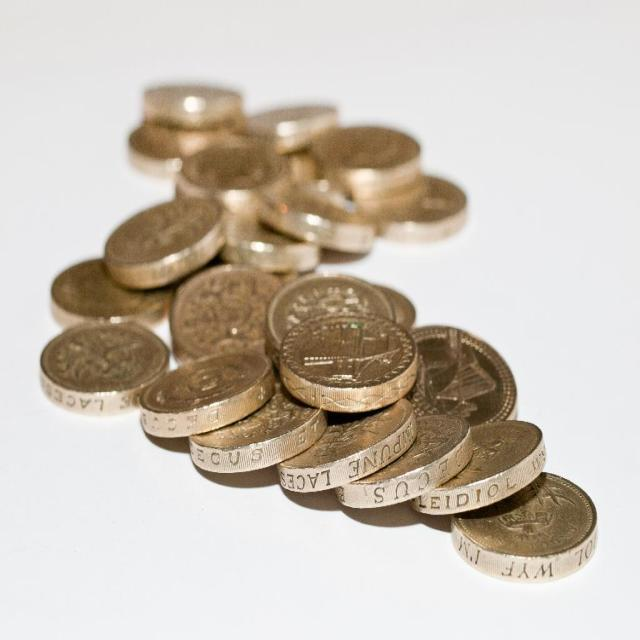Coin: (36, 76, 598, 585)
